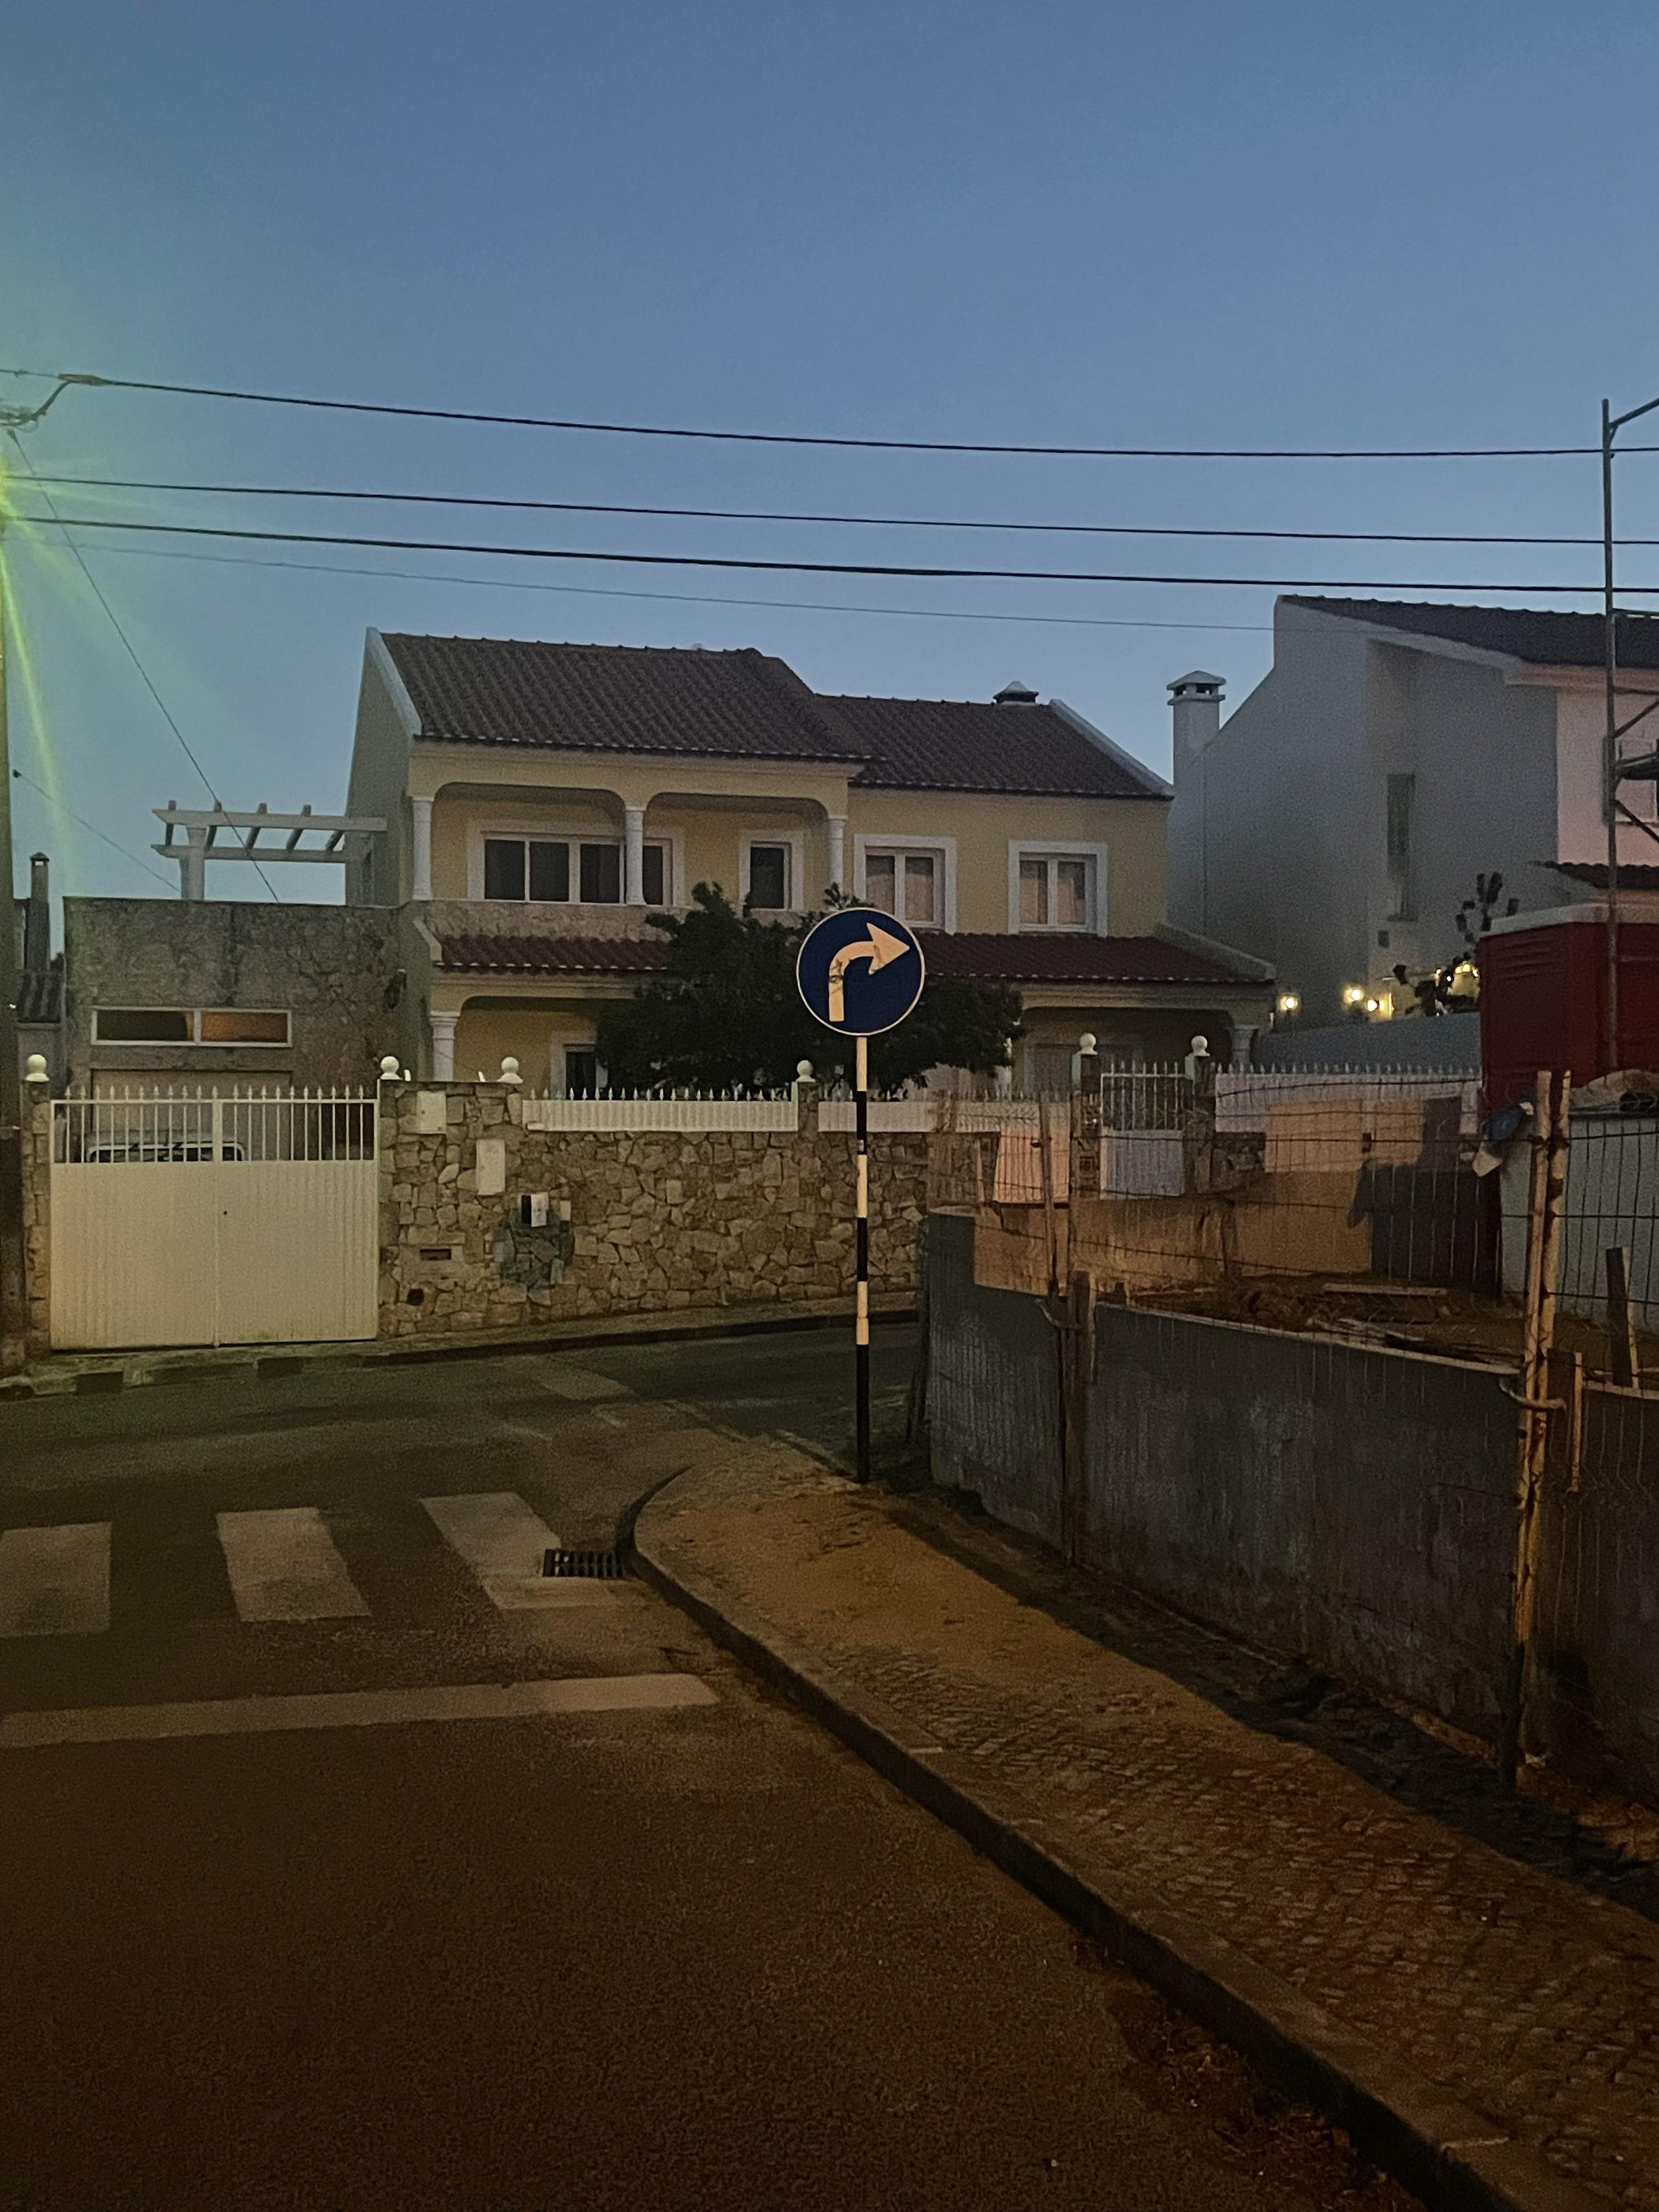sentido obrigatorio: (812, 894, 911, 1042)
